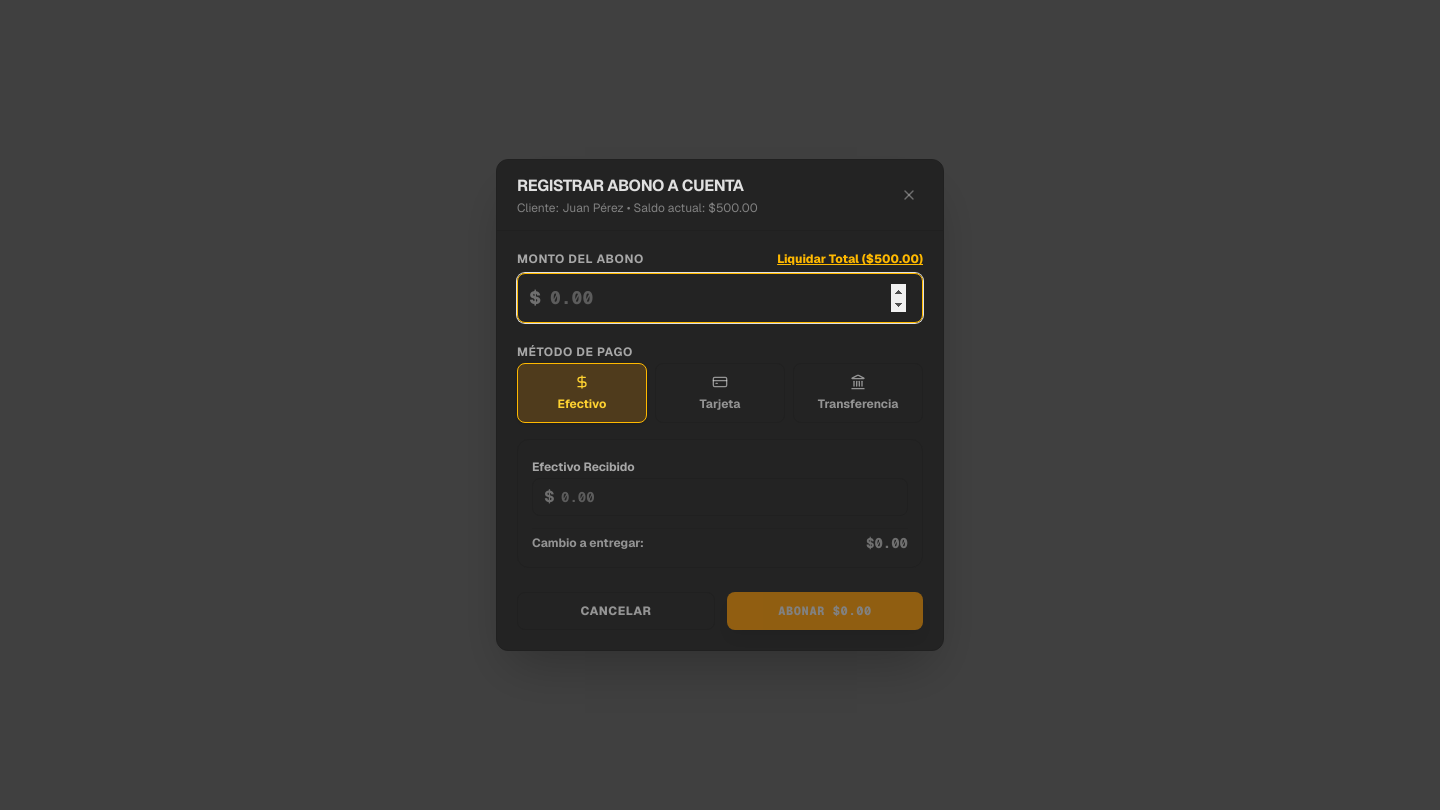
CustomerAbonoModal Component › switches payment methods and handles cash change calculation
Click the button "Tarjeta": {"x": 720, "y": 393} [655,363,785,423]
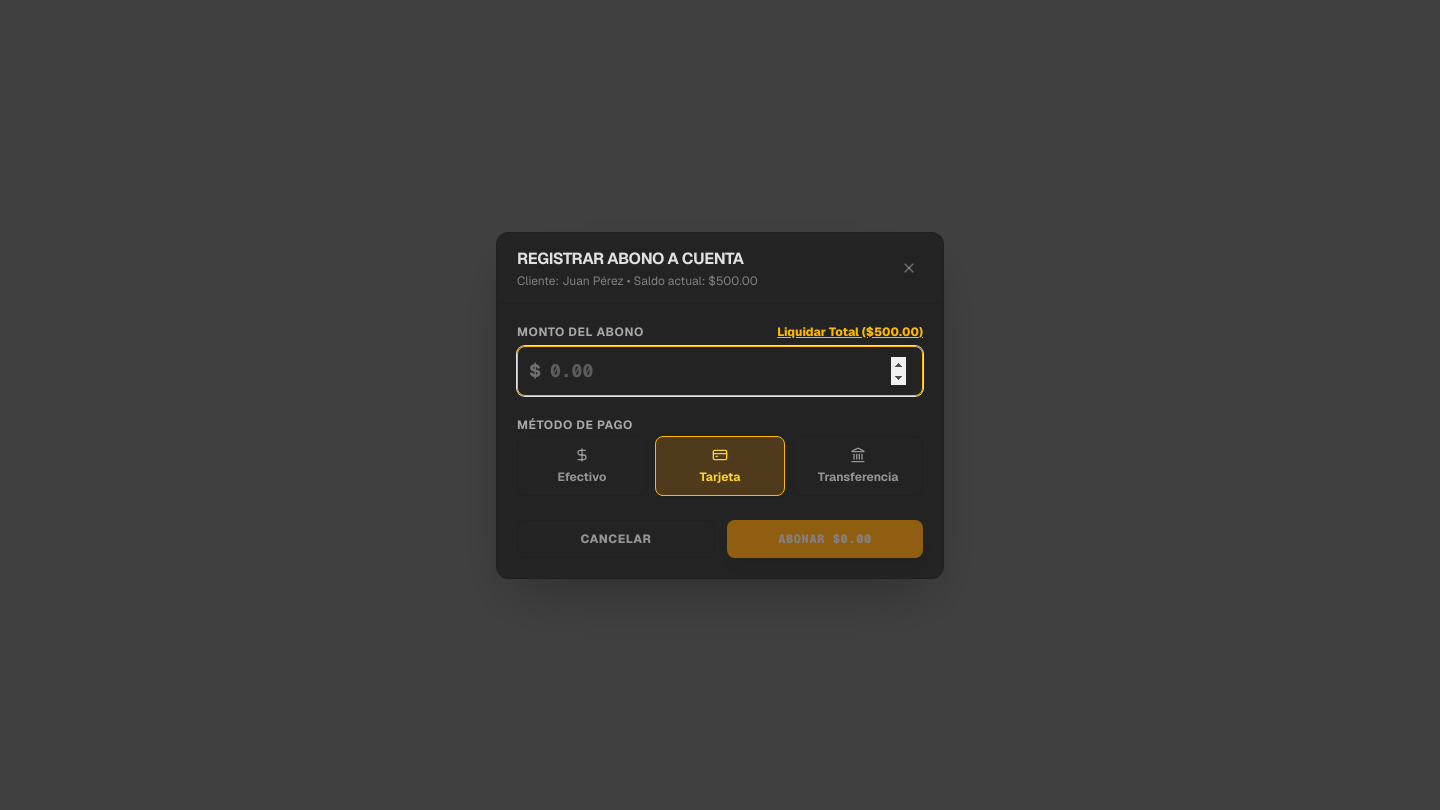
Now the label labelled "Efectivo Recibido" is gone
Click the button "Efectivo": {"x": 582, "y": 466} [517,436,647,496]
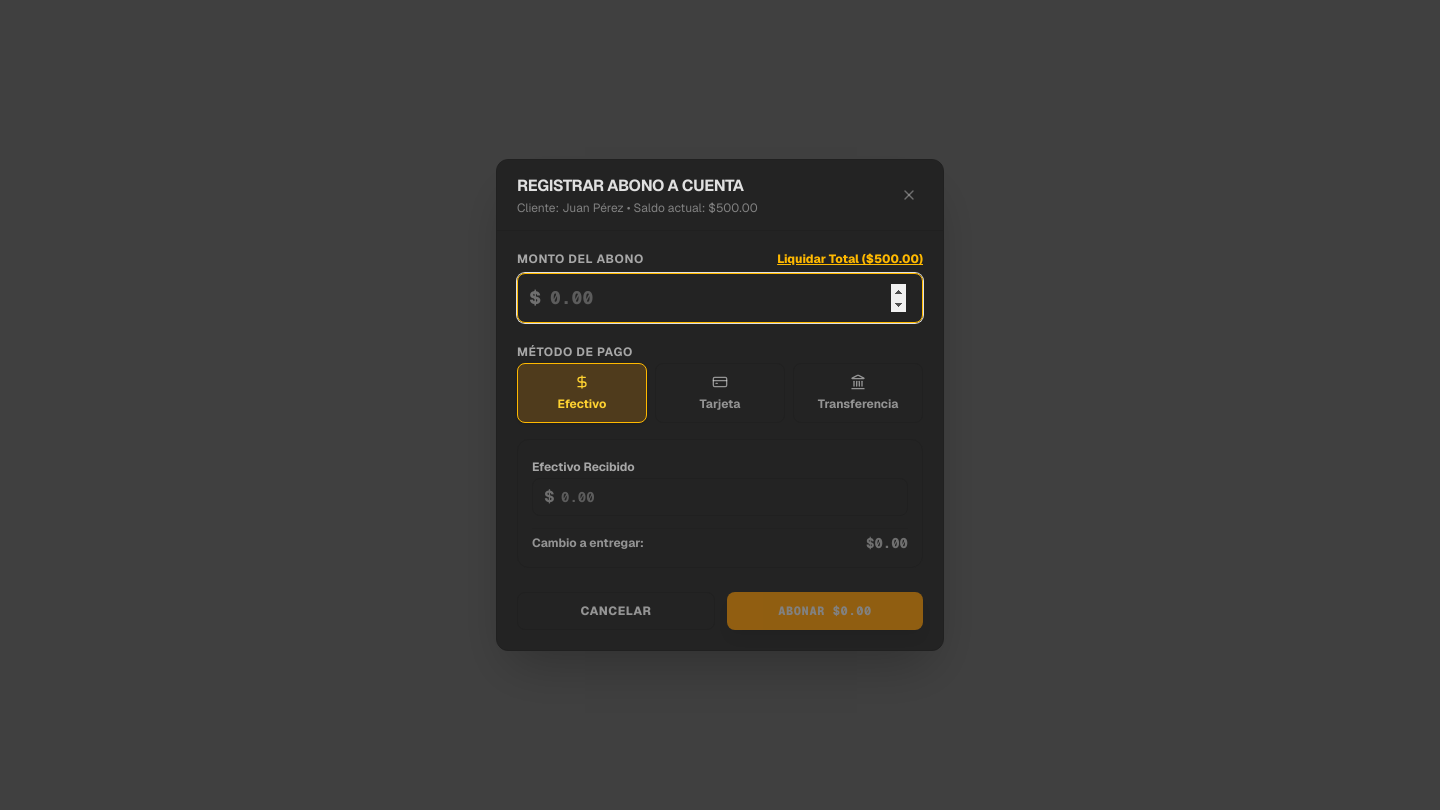
Cash received is back
In the number field labelled "Monto del Abono": {"x": 720, "y": 298} [517,273,923,323], type "200"
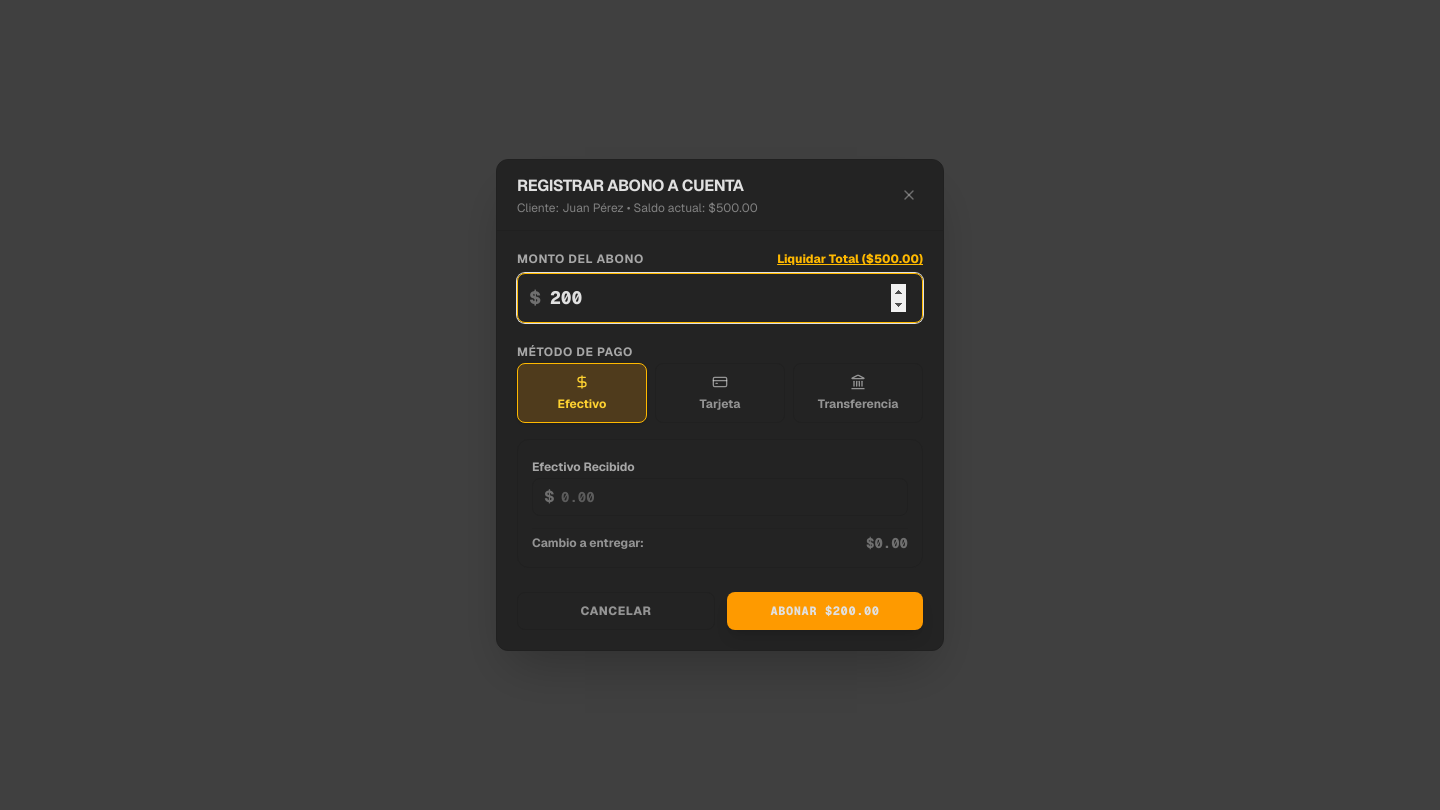
In the number field labelled "Efectivo Recibido": {"x": 720, "y": 497} [532,478,908,516], type "500"
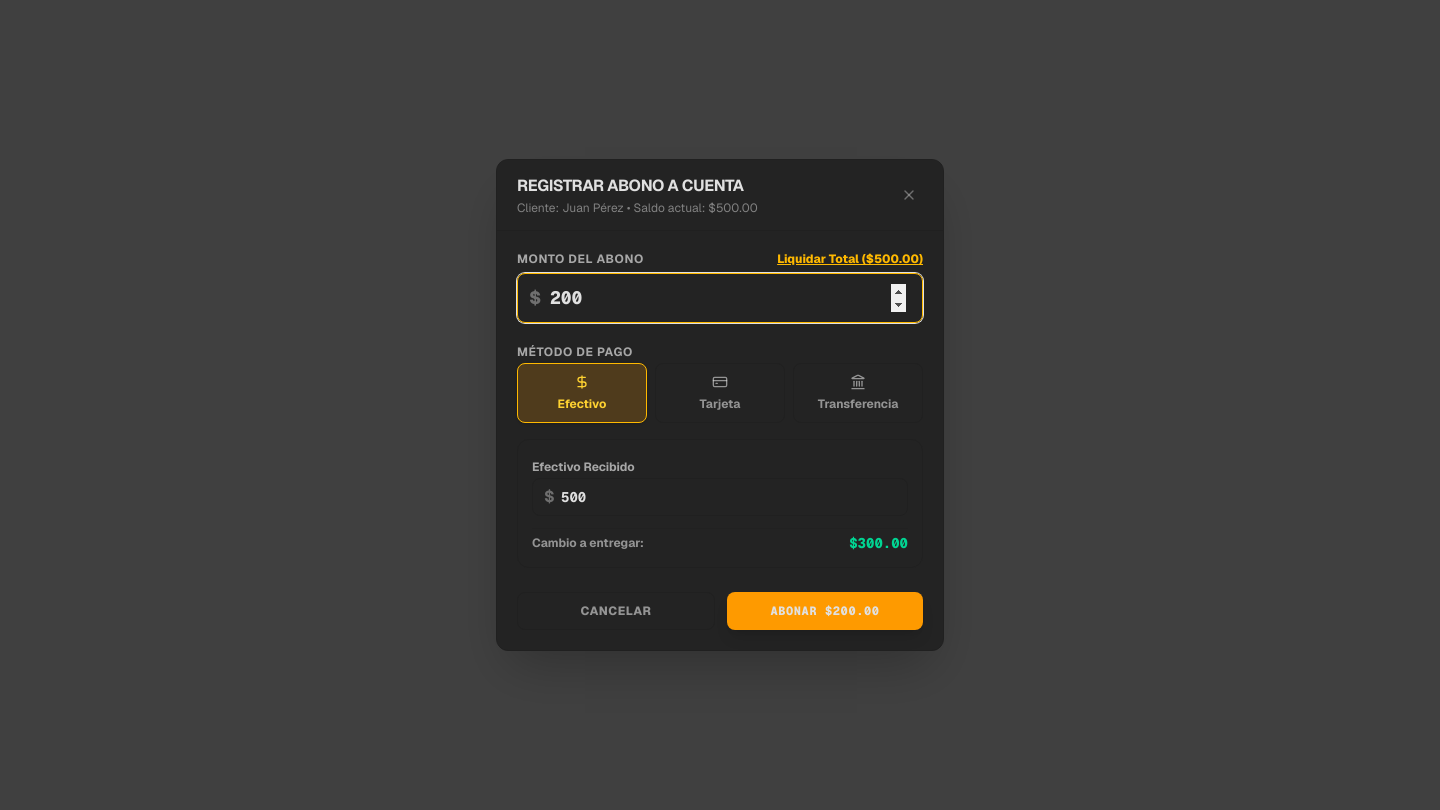
Now the text "$300.00" is shown, box [849,533,908,553]
